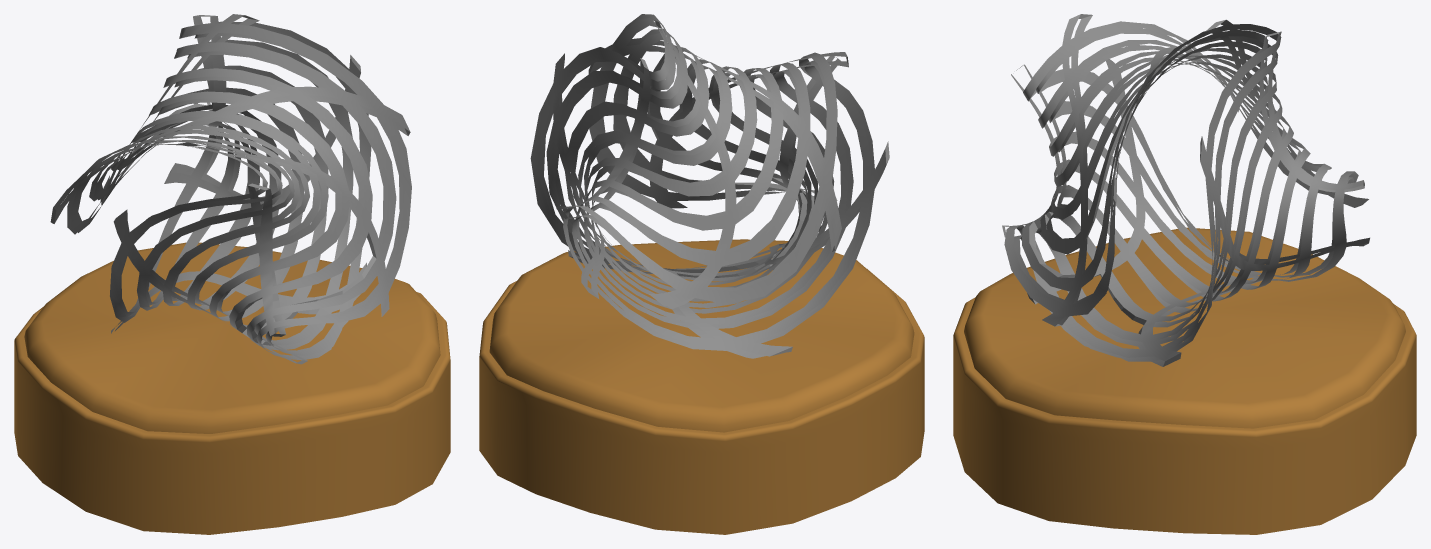
The model's file is sculpture_metal_01.fbx.
3 views of the same model, side by side, from view 1: azimuth 30°, elevation 25°; view 2: azimuth 150°, elevation 25°; view 3: azimuth 270°, elevation 25° (orthographic). The views are drawn at different scales.
Parts seen in each view (by area): view 1: pCylinder1, pPipe5; view 2: pCylinder1, pPipe5; view 3: pCylinder1, pPipe5.
Boxes of the visible parts, <box> form: pCylinder1: <box>14,242,450,534</box>; pPipe5: <box>50,14,411,364</box>; pCylinder1: <box>479,239,924,534</box>; pPipe5: <box>530,14,889,358</box>; pCylinder1: <box>953,227,1416,534</box>; pPipe5: <box>1002,14,1369,366</box>.
Bounding box in the file's own units: 783 × 815 × 783.
